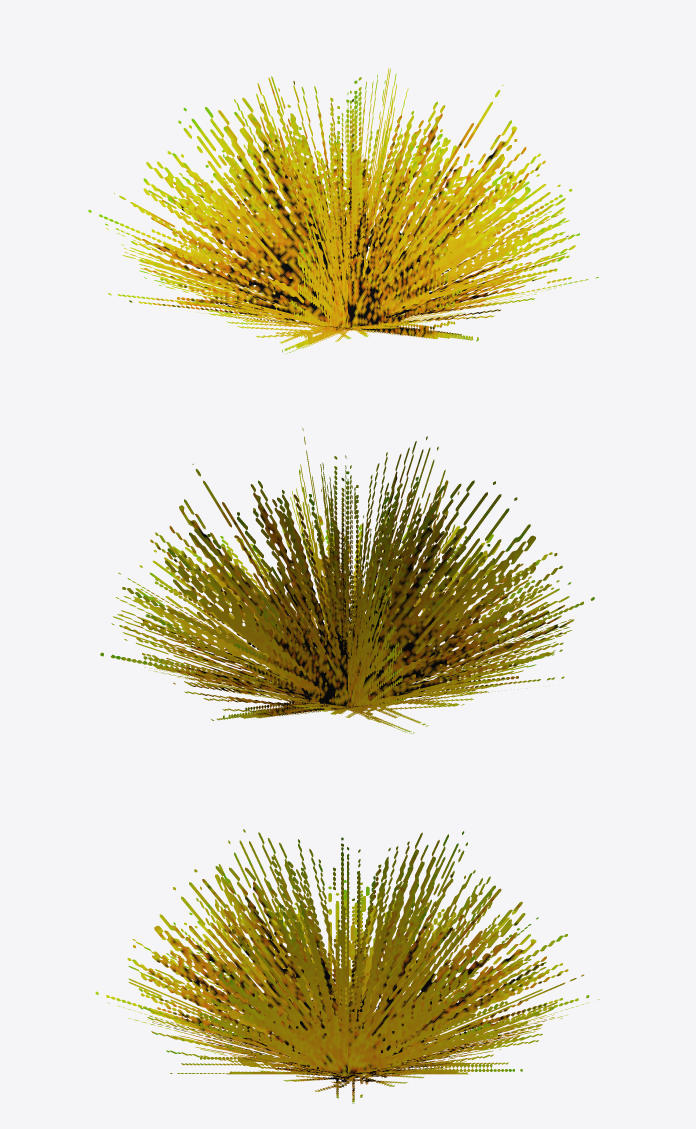
Rendered from pijpestrootje_1.fbx.
3 views of the same model, one above another, from view 1: azimuth 30°, elevation 25°; view 2: azimuth 150°, elevation 25°; view 3: azimuth 270°, elevation 25° (orthographic). The views are drawn at different scales.
Visible parts, largest first — view 1: pijpestrootje; view 2: pijpestrootje; view 3: pijpestrootje.
Part boxes in pixels (left/top/right/bottom): pijpestrootje: left=88, top=68, right=598, bottom=354; pijpestrootje: left=100, top=428, right=594, bottom=733; pijpestrootje: left=95, top=829, right=599, bottom=1103.
Bounding box in the file's own units: 465 × 232 × 465.
